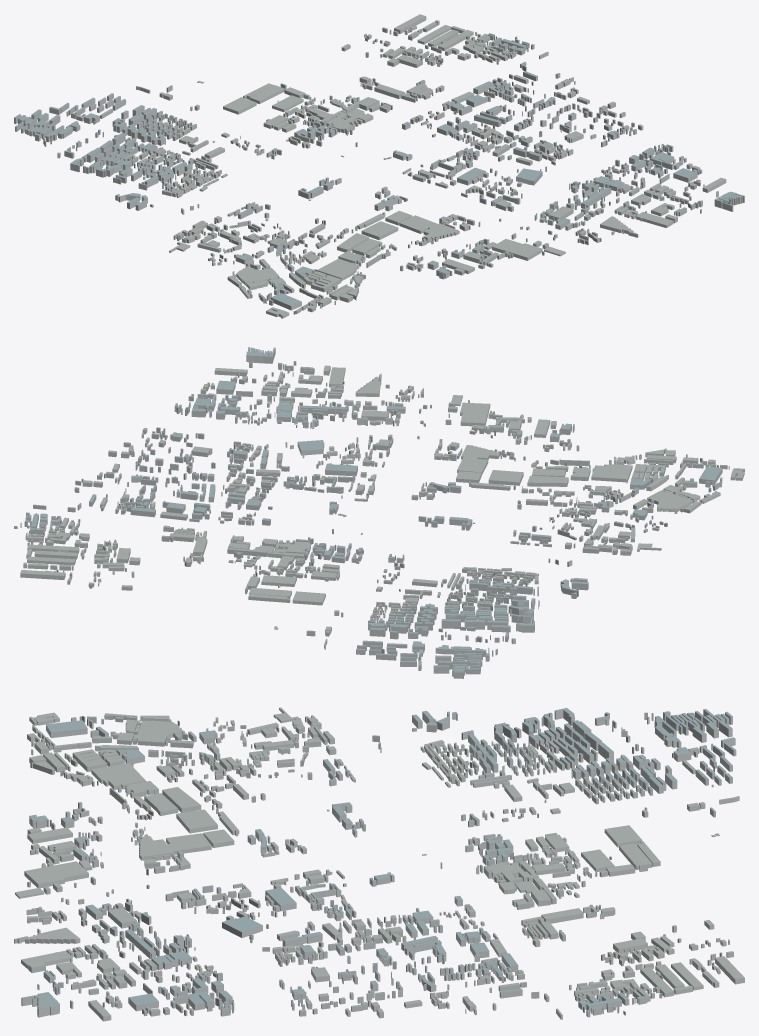
File: far.glb
The picture shows the model from 3 angles, top to bottom: view 1: azimuth 30°, elevation 25°; view 2: azimuth 150°, elevation 25°; view 3: azimuth 270°, elevation 25°; orthographic projection. The views are drawn at different scales.
Size of the model in its own units: 2184 by 33.54 by 2163.
